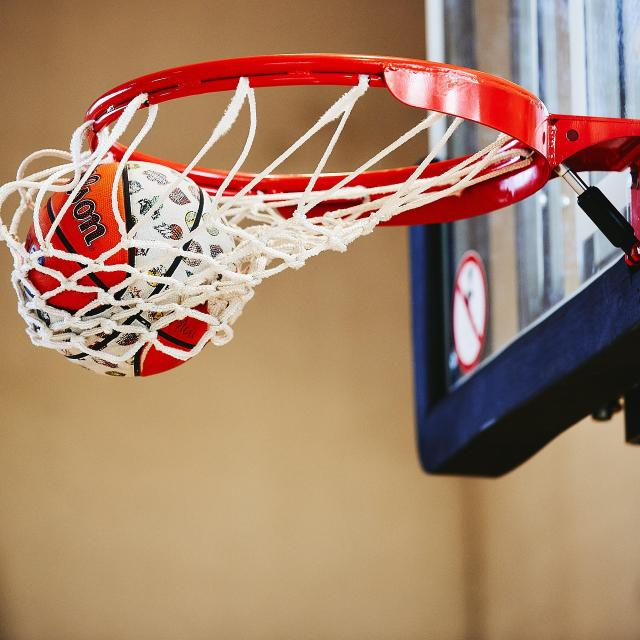Goal: (21, 160, 226, 378)
